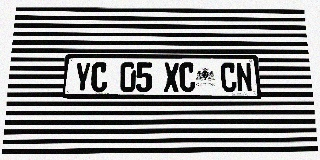0: (120, 63, 136, 92)
5: (136, 63, 152, 92)
C: (91, 62, 108, 92), (179, 63, 196, 92), (220, 63, 237, 92)
N: (236, 63, 253, 92)
X: (163, 63, 179, 92)
Y: (74, 62, 91, 92)
